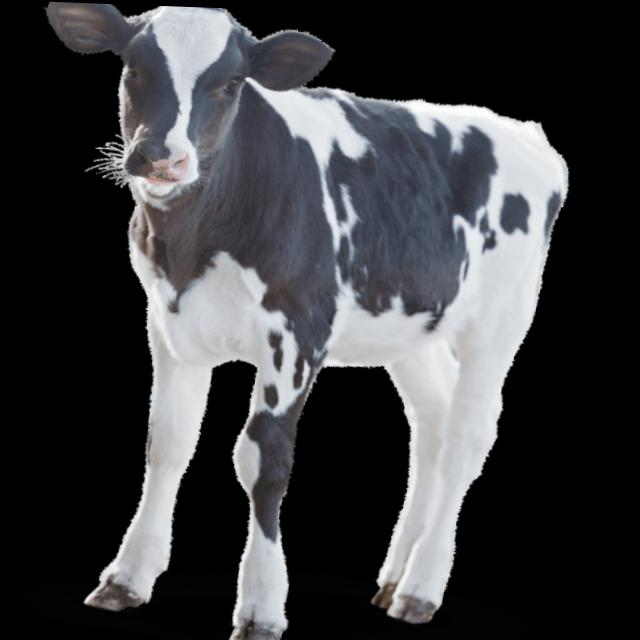cowFace: (16, 1, 342, 211)
